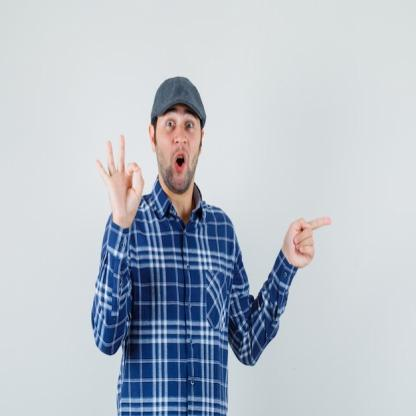ok: (94, 130, 146, 232)
